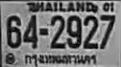2: (83, 15, 97, 48), (50, 15, 64, 47)
4: (23, 14, 37, 48)
6: (6, 15, 20, 47)
7: (100, 14, 115, 48)
9: (66, 15, 81, 47)
BKK: (22, 52, 98, 66)
